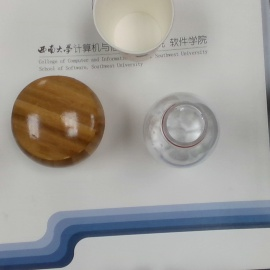bottle: (143, 91, 220, 166)
chess: (11, 75, 104, 170)
cup: (91, 1, 176, 61)
